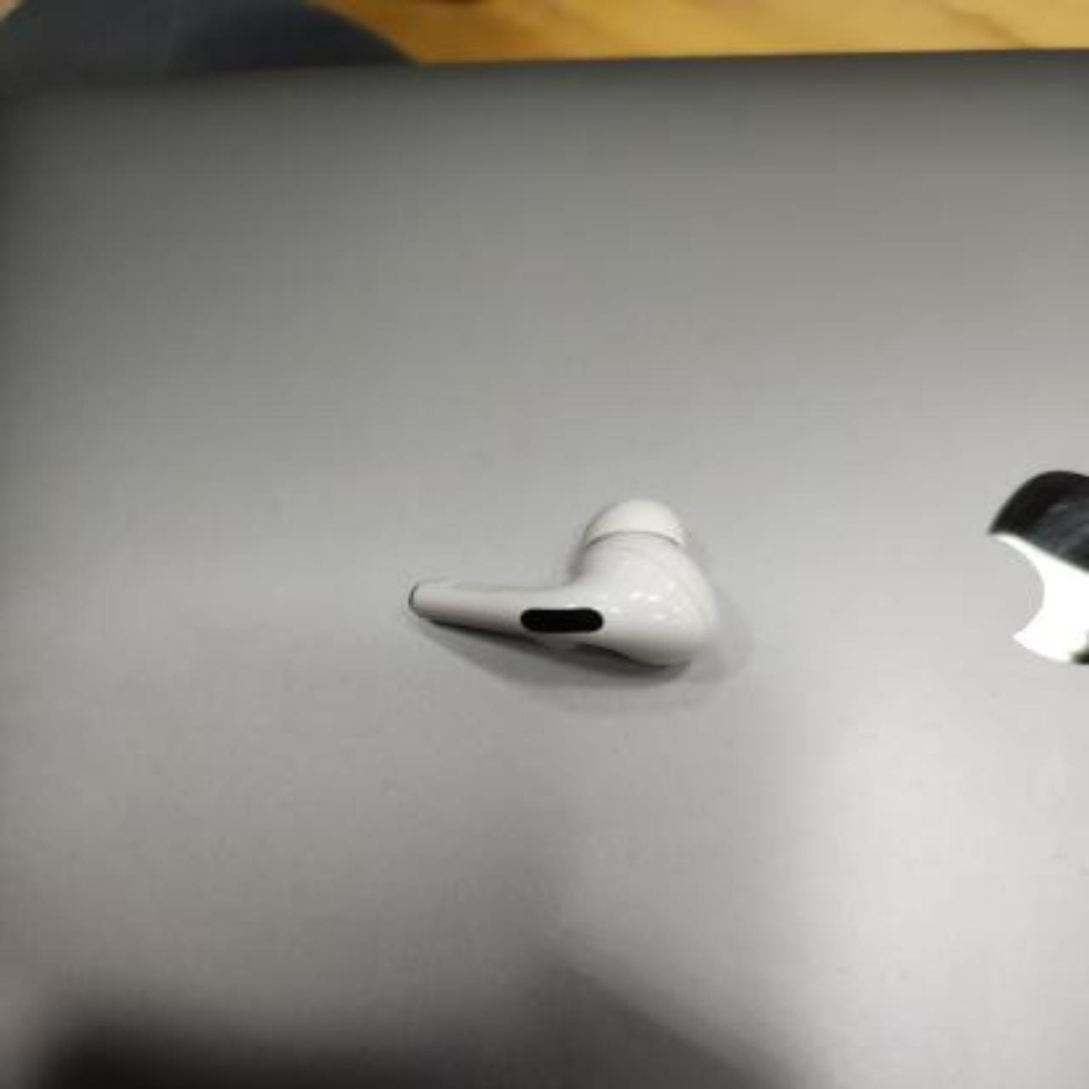Airpods_Units: (402, 467, 750, 687)
